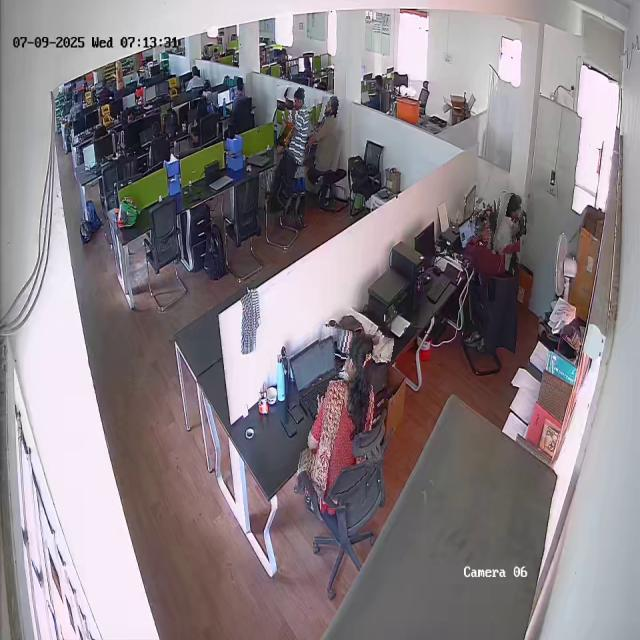person: (300, 329, 387, 504), (272, 84, 310, 218), (307, 94, 349, 174), (464, 210, 509, 275), (491, 192, 523, 253)
